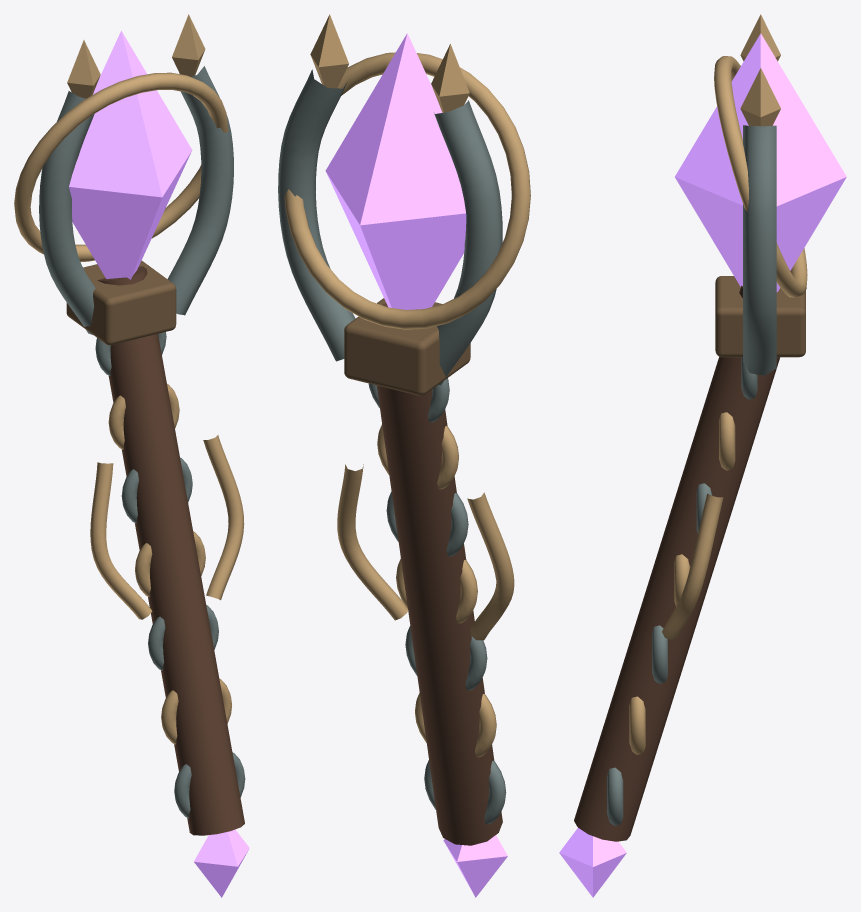
3 views of the same model, side by side, from view 1: azimuth 30°, elevation 25°; view 2: azimuth 150°, elevation 25°; view 3: azimuth 270°, elevation 25° (orthographic). The views are drawn at different scales.
Parts seen in each view (by area): view 1: darkwood staff, floating rift crystal, forked crystal claw (×2), rift focus halo, binding ring (×7), spiral brass inlay (×2), relic socket, claw finial (×2), staff pommel; view 2: darkwood staff, floating rift crystal, forked crystal claw (×2), rift focus halo, binding ring (×7), relic socket, spiral brass inlay (×2), claw finial (×2), staff pommel; view 3: darkwood staff, floating rift crystal, forked crystal claw, binding ring (×5), relic socket, rift focus halo, spiral brass inlay, staff pommel, claw finial (×2).
Boxes of the visible parts, <box> form: darkwood staff: <box>97,266,244,835</box>; floating rift crystal: <box>69,30,192,279</box>; forked crystal claw (×2): <box>39,66,233,334</box>; rift focus halo: <box>14,72,228,261</box>; binding ring (×7): <box>95,332,245,818</box>; spiral brass inlay (×2): <box>90,435,244,619</box>; relic socket: <box>66,260,176,345</box>; claw finial (×2): <box>67,14,205,98</box>; staff pommel: <box>194,829,249,897</box>; darkwood staff: <box>376,303,502,845</box>; floating rift crystal: <box>325,33,466,309</box>; forked crystal claw (×2): <box>278,69,502,385</box>; rift focus halo: <box>284,52,530,329</box>; binding ring (×7): <box>368,378,506,824</box>; relic socket: <box>344,298,470,395</box>; spiral brass inlay (×2): <box>337,464,514,640</box>; claw finial (×2): <box>310,14,469,112</box>; staff pommel: <box>443,835,507,897</box>; darkwood staff: <box>574,285,779,841</box>; floating rift crystal: <box>675,33,846,291</box>; forked crystal claw: <box>743,125,776,375</box>; binding ring (×5): <box>607,412,735,826</box>; relic socket: <box>715,276,805,357</box>; rift focus halo: <box>714,56,807,297</box>; spiral brass inlay: <box>662,493,723,639</box>; staff pommel: <box>559,828,626,897</box>; claw finial (×2): <box>740,14,780,126</box>.
Size of the model in its own units: 0.5749 by 2.08 by 0.635.
